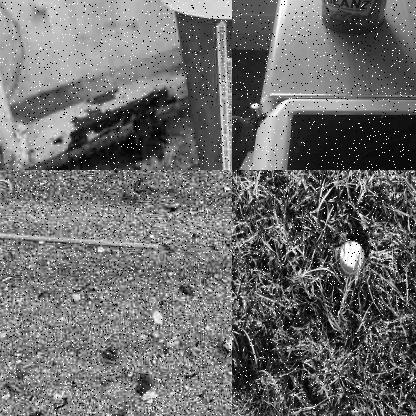metal: (309, 0, 404, 38)
plastic: (162, 0, 231, 169), (0, 226, 160, 254), (339, 242, 366, 276)
